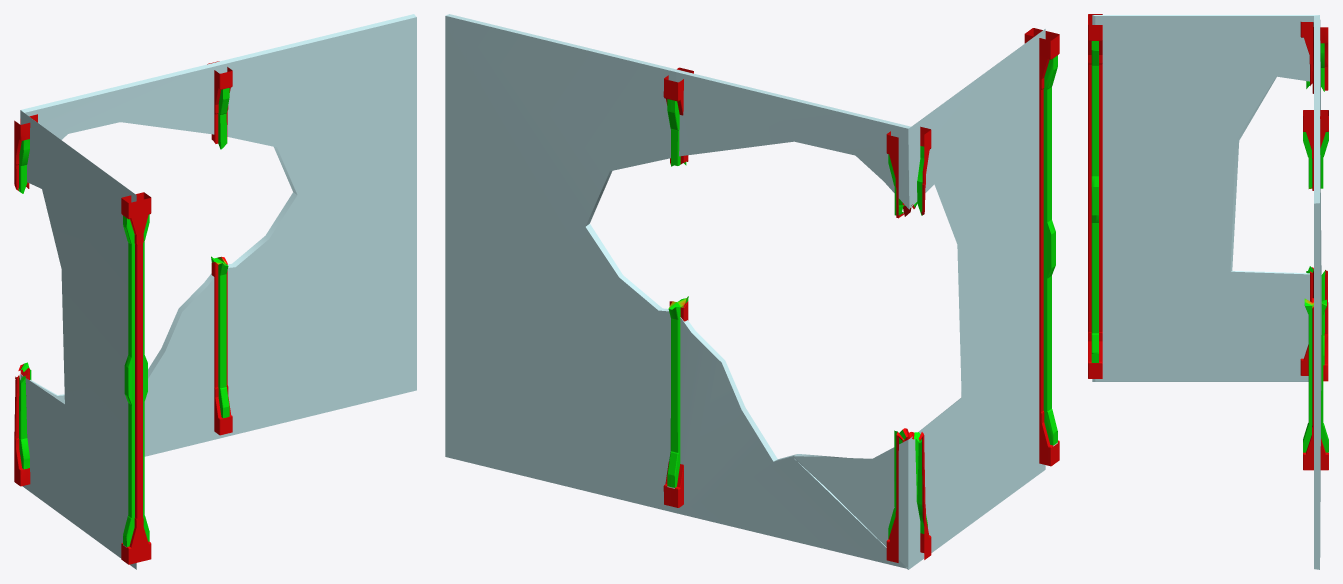
File: MeMorceauCasse.FBX
The picture shows the model from 3 angles, left to right: view 1: azimuth 30°, elevation 25°; view 2: azimuth 150°, elevation 25°; view 3: azimuth 270°, elevation 25°; orthographic projection. The views are drawn at different scales.
Visible parts, largest first — view 1: MeBarres, VitreCadre; view 2: MeBarres, VitreCadre; view 3: MeBarres, VitreCadre.
Part boxes in pixels (x1,y1,x2,y2): MeBarres: [20, 14, 416, 569]; VitreCadre: [14, 61, 232, 564]; MeBarres: [445, 14, 1045, 569]; VitreCadre: [663, 28, 1059, 562]; MeBarres: [1092, 15, 1321, 569]; VitreCadre: [1088, 14, 1328, 470].
Size of the model in its own units: 309 by 274 by 163.
